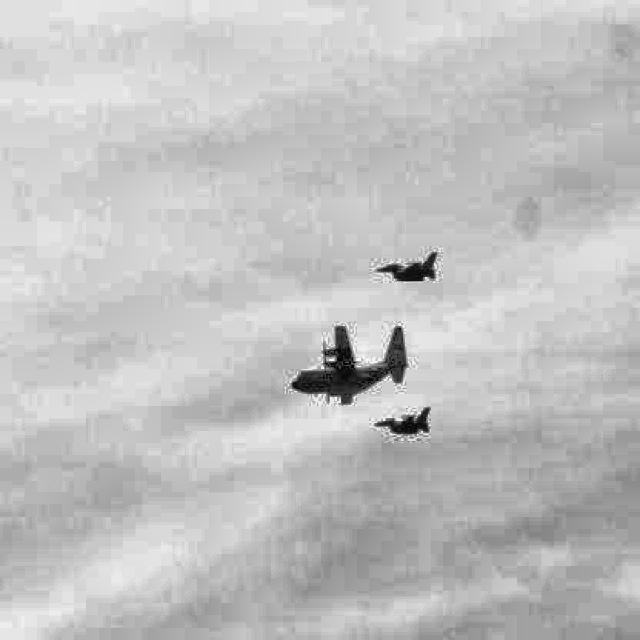C130: (291, 326, 409, 406)
F16: (375, 252, 439, 280), (374, 407, 431, 435)
